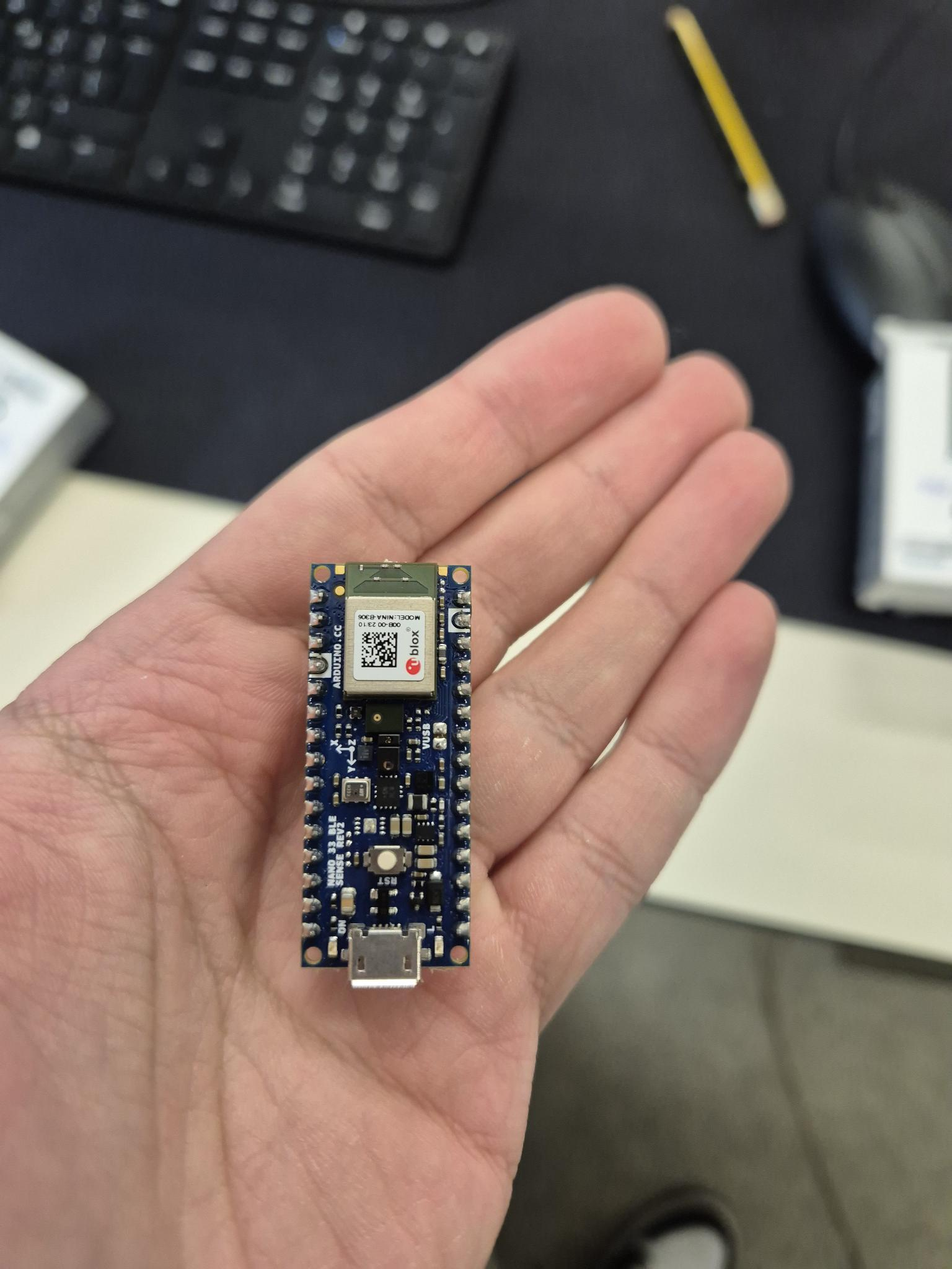arduino-nano-ble-sense: (302, 562, 471, 987)
